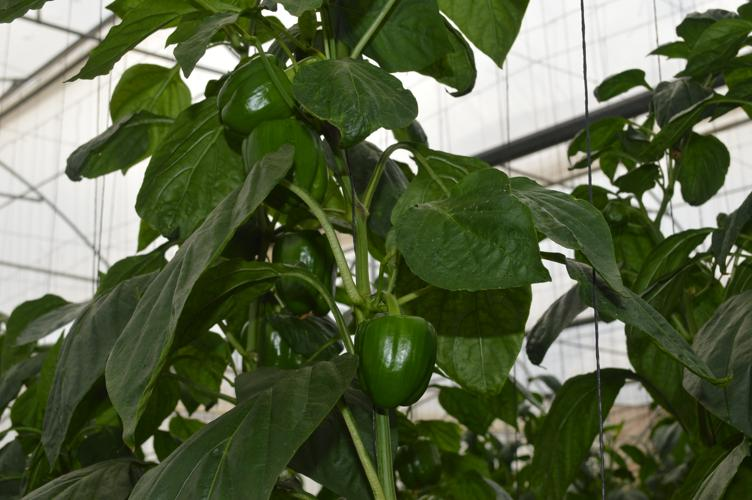BellPepper: (351, 313, 440, 410), (264, 229, 341, 319), (245, 126, 327, 208), (210, 54, 294, 127), (396, 437, 438, 485)
